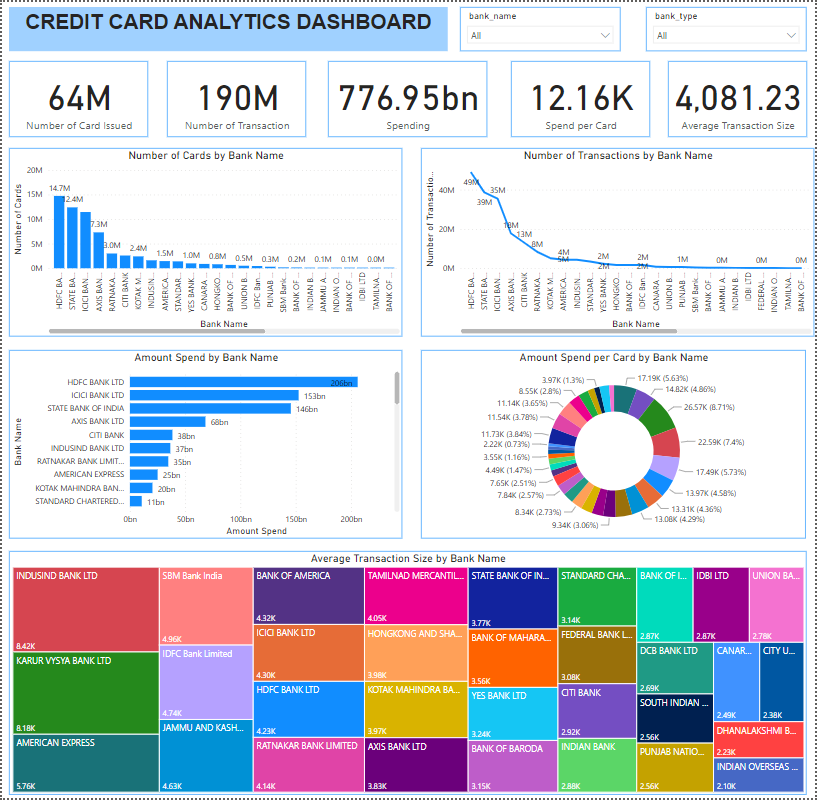

What the dashboard file says about the page in this screenshot:
{"tool":"powerbi","page":{"name":"Page 1","canvas":[1250,1226],"ordinal":0},"visuals":[{"type":"textbox","box":[10,8,675,68],"z":0},{"type":"card","fields":{"Values":["Aug21.Number of Card Issued"]},"box":[11,90,214,117],"z":1000},{"type":"card","fields":{"Values":["Aug21.Number of Transaction"]},"box":[254,90,214,117],"z":2000},{"type":"card","fields":{"Values":["Aug21.Spending"]},"box":[502,90,245,117],"z":3000},{"type":"card","fields":{"Values":["Aug21.Spend per Card"]},"box":[783,90,214,117],"z":4000},{"type":"columnChart","title":"Number of Cards by Bank Name","fields":{"Category":["Aug21.bank_name"],"Y":["Sum(Aug21.credit_cards)"]},"box":[11,225,605,290],"z":6000},{"type":"lineChart","title":"Number of Transactions by Bank Name","fields":{"Category":["Aug21.bank_name"],"Y":["Sum(Aug21.cc_transactions)"]},"box":[645,225,605,290],"z":7000},{"type":"clusteredBarChart","title":"Amount Spend by Bank Name","fields":{"Category":["Aug21.bank_name"],"Y":["Sum(Aug21.cc_inr_spend)"]},"box":[10,535,605,290],"z":8000},{"type":"slicer","fields":{"Values":["Aug21.bank_type"]},"box":[991,8,247,68],"z":9000},{"type":"slicer","fields":{"Values":["Aug21.bank_name"]},"box":[705,8,247,68],"z":10000},{"type":"donutChart","title":"Amount Spend per Card by Bank Name","fields":{"Category":["Aug21.bank_name"],"Y":["Aug21.Spend per Card"]},"box":[645,535,592,290],"z":11000},{"type":"treemap","title":"Average Transaction Size by Bank Name","fields":{"Group":["Aug21.bank_name"],"Values":["Aug21.Average Transaction Size"]},"box":[11,845,1227,375],"z":12000},{"type":"card","fields":{"Values":["Aug21.Average Transaction Size"]},"box":[1024,90,214,117],"z":12001}]}

Visuals, with their boxes in screenshot pixels (x1, y1, x2, y2), scaled from the page's 1250x1226 canvas onto the 818x800 screenshot:
textbox: rect(7, 5, 448, 50)
card - Aug21.Number of Card Issued: rect(7, 59, 147, 135)
card - Aug21.Number of Transaction: rect(166, 59, 306, 135)
card - Aug21.Spending: rect(329, 59, 489, 135)
card - Aug21.Spend per Card: rect(512, 59, 652, 135)
"Number of Cards by Bank Name" columnChart: rect(7, 147, 403, 336)
"Number of Transactions by Bank Name" lineChart: rect(422, 147, 817, 336)
"Amount Spend by Bank Name" clusteredBarChart: rect(7, 349, 402, 538)
slicer - Aug21.bank_type: rect(649, 5, 810, 50)
slicer - Aug21.bank_name: rect(461, 5, 623, 50)
"Amount Spend per Card by Bank Name" donutChart: rect(422, 349, 809, 538)
"Average Transaction Size by Bank Name" treemap: rect(7, 551, 810, 796)
card - Aug21.Average Transaction Size: rect(670, 59, 810, 135)
